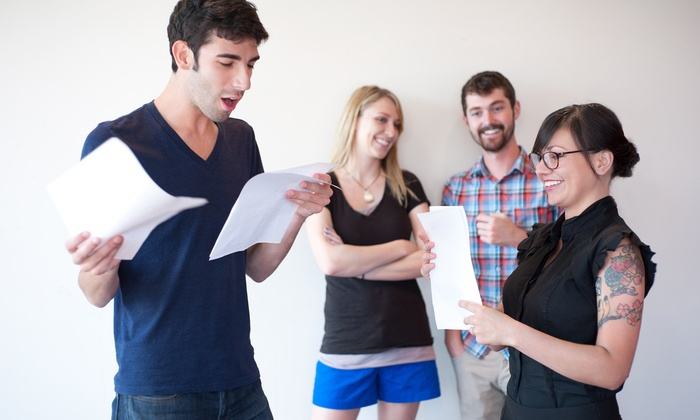bad: (196, 38, 270, 113), (522, 135, 584, 198), (463, 95, 515, 147), (360, 101, 412, 153)
